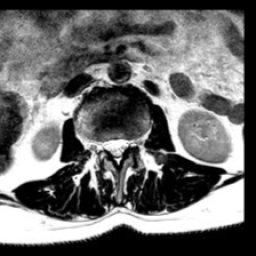CCS_normal: (112, 128, 120, 171)
LFS_normal: (128, 127, 136, 155)
LLS_normal: (120, 127, 128, 158)
RFS_normal: (95, 131, 103, 158)
RLS_normal: (103, 129, 112, 158)
